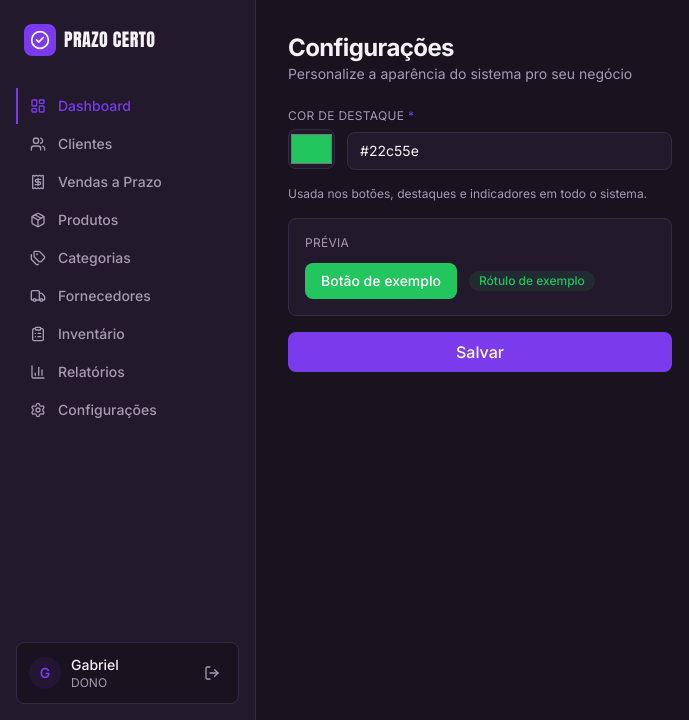
ConfiguracoesPage › mostra erro da ApiError quando salvar falha
The width and height of the screenshot is (689, 720).
Step 1. Click the button "Salvar" → (480, 352), box [288,332,672,372]
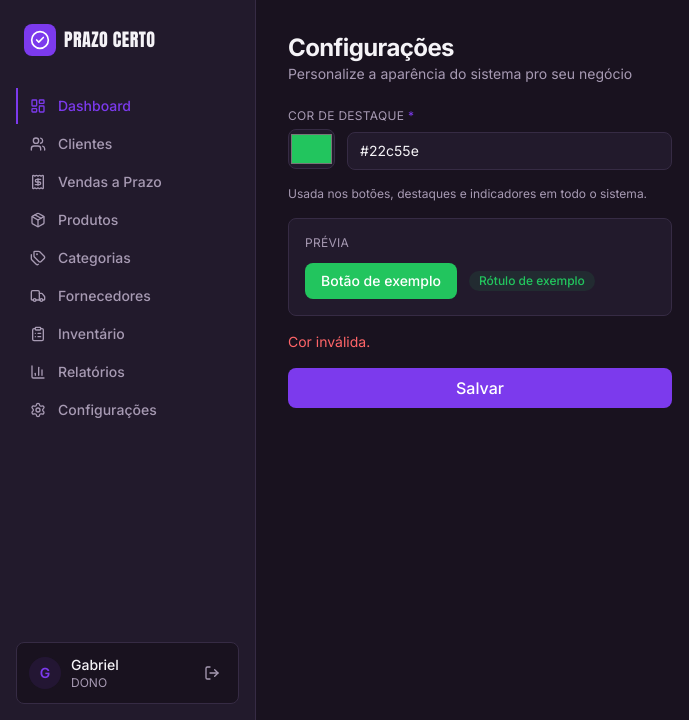
Expected: the text "Cor inválida." is shown, [288,333,370,350]
